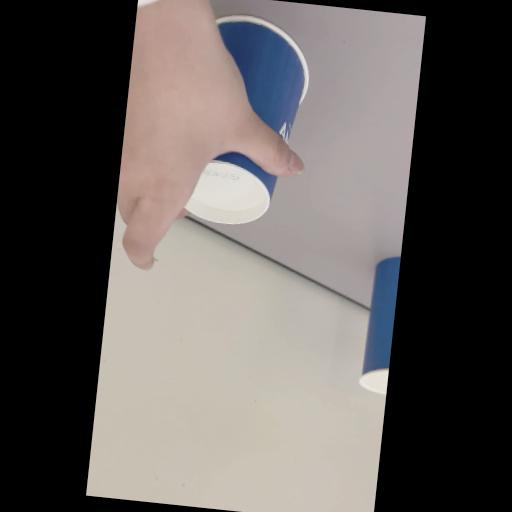lp_paper_cup: (120, 0, 318, 249), (358, 254, 400, 396)
